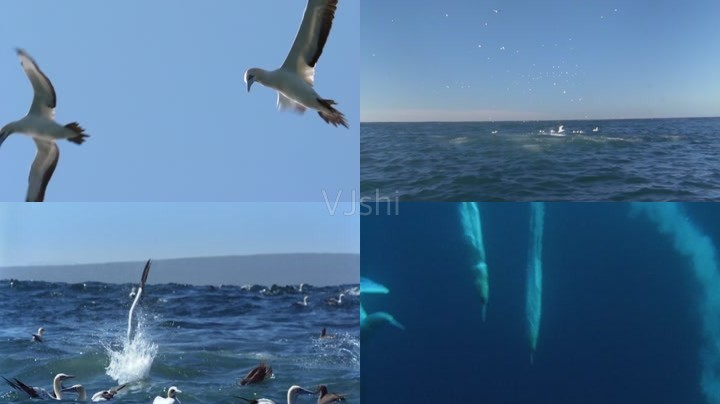bird: (231, 1, 368, 130), (1, 36, 86, 201), (118, 255, 157, 350)
